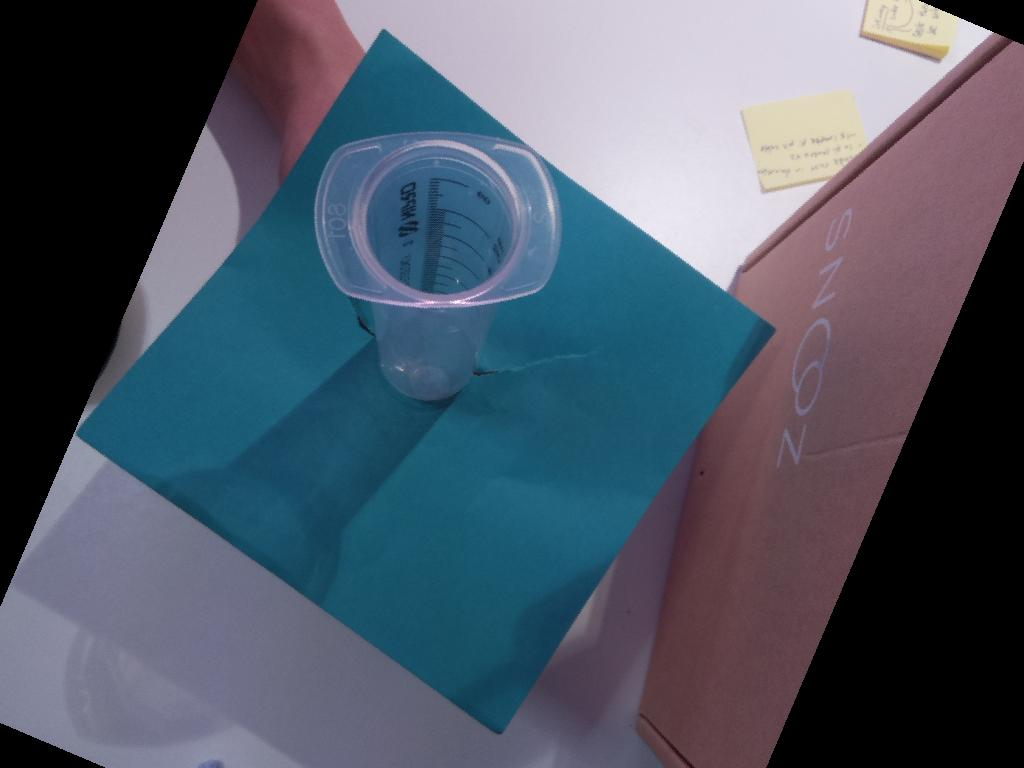clean: (313, 130, 562, 304)
